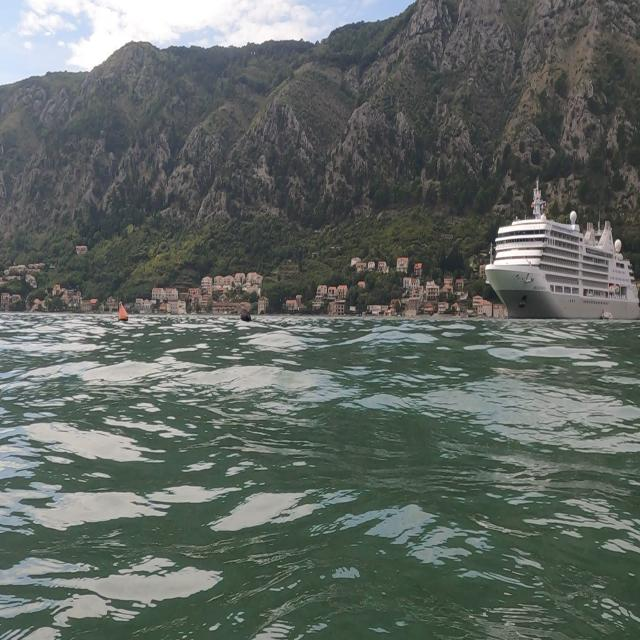boat: (482, 174, 638, 323)
buoy: (115, 300, 132, 328), (238, 303, 252, 328)
